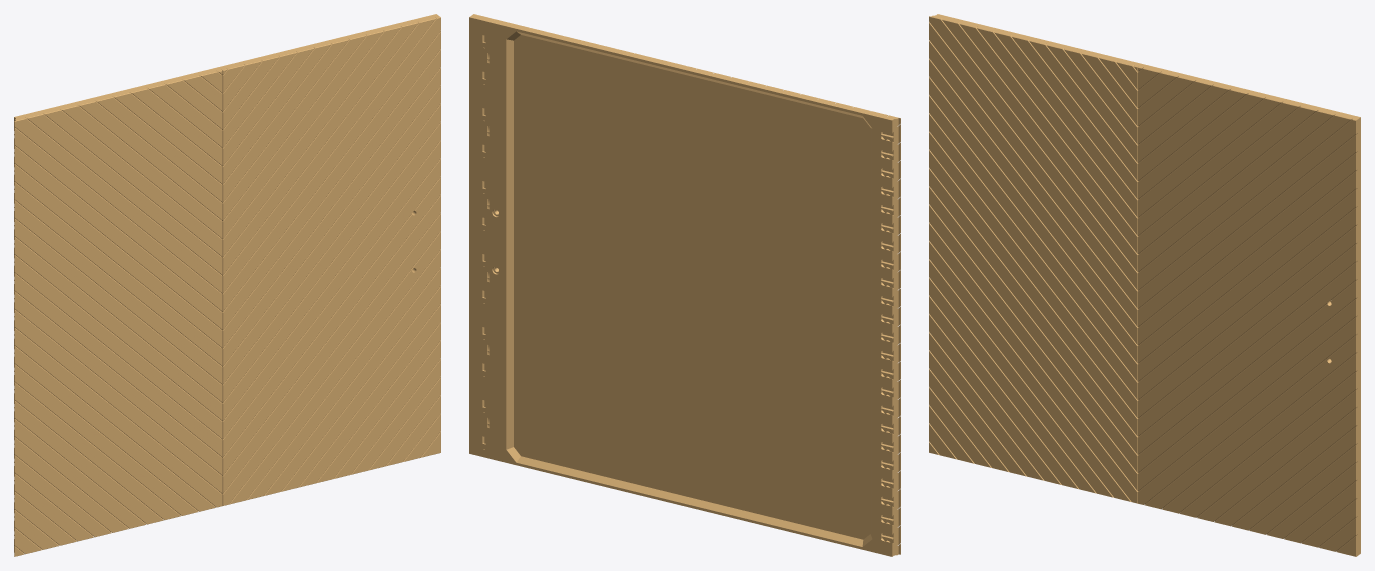
Rendered from Door_Chevron_4W-6H.lib.glb.
3 renders of one model, left to right at view 1: azimuth 30°, elevation 25°; view 2: azimuth 150°, elevation 25°; view 3: azimuth 330°, elevation 25°, orthographic.
Visible parts, largest first — view 1: Door_Chevron_4W-6H; view 2: Door_Chevron_4W-6H; view 3: Door_Chevron_4W-6H.
Part boxes in pixels (x1,y1,x2,y2): Door_Chevron_4W-6H: (14, 14, 440, 556); Door_Chevron_4W-6H: (469, 14, 900, 556); Door_Chevron_4W-6H: (929, 14, 1360, 556).
Bounding box in the file's own units: 343 × 335 × 6.49.
